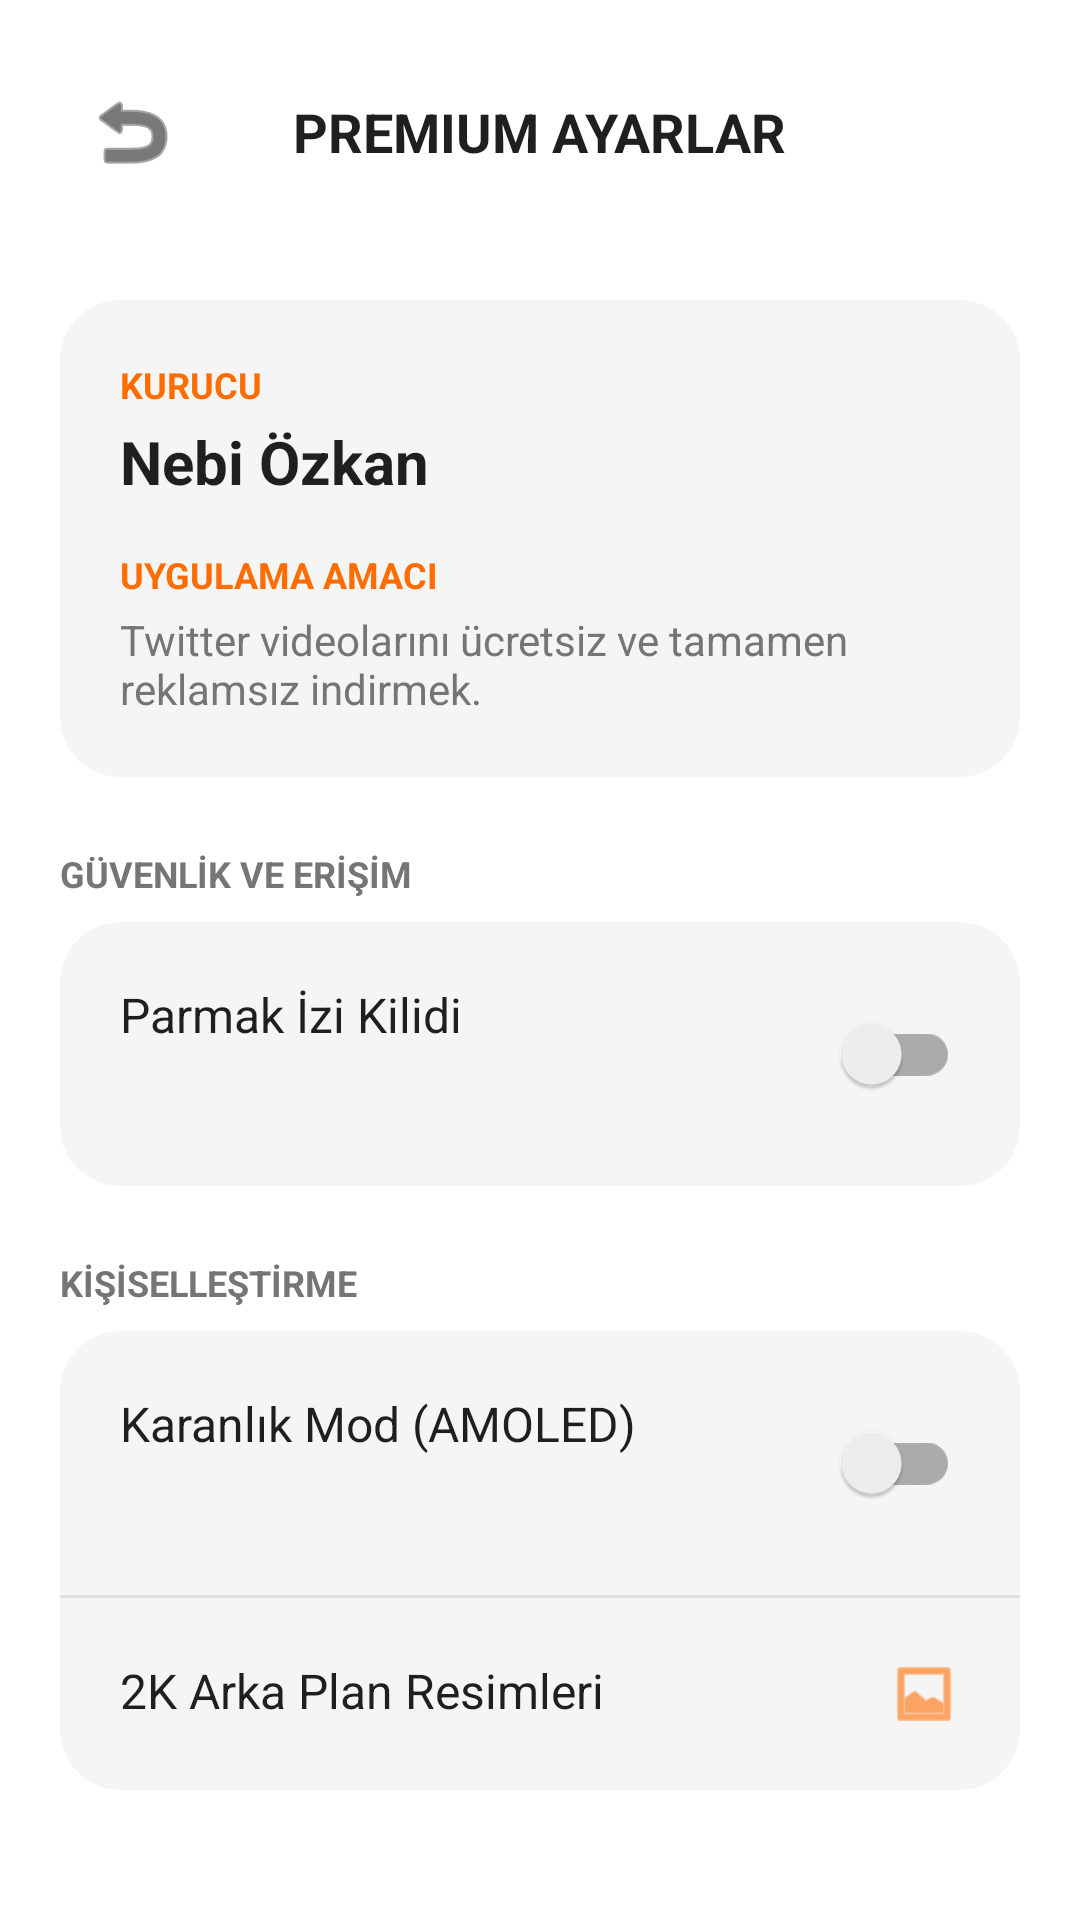

Point at icon controls on the screen. Image size 1080px x 1920px, points as (x,y).
gallery: (924,1694)
revert: (133,132)
